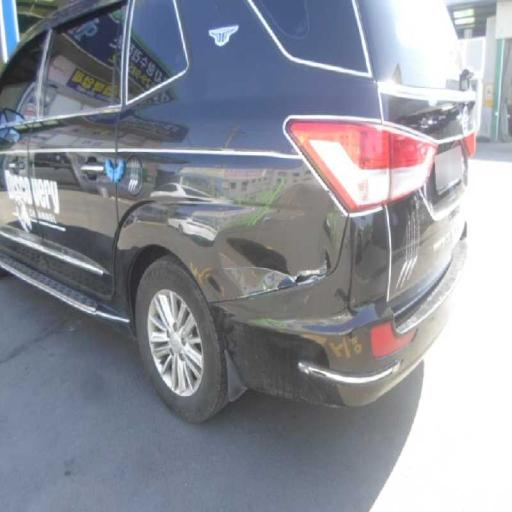broken: (221, 197, 362, 340)
scratch: (116, 153, 224, 287), (388, 171, 440, 340)
